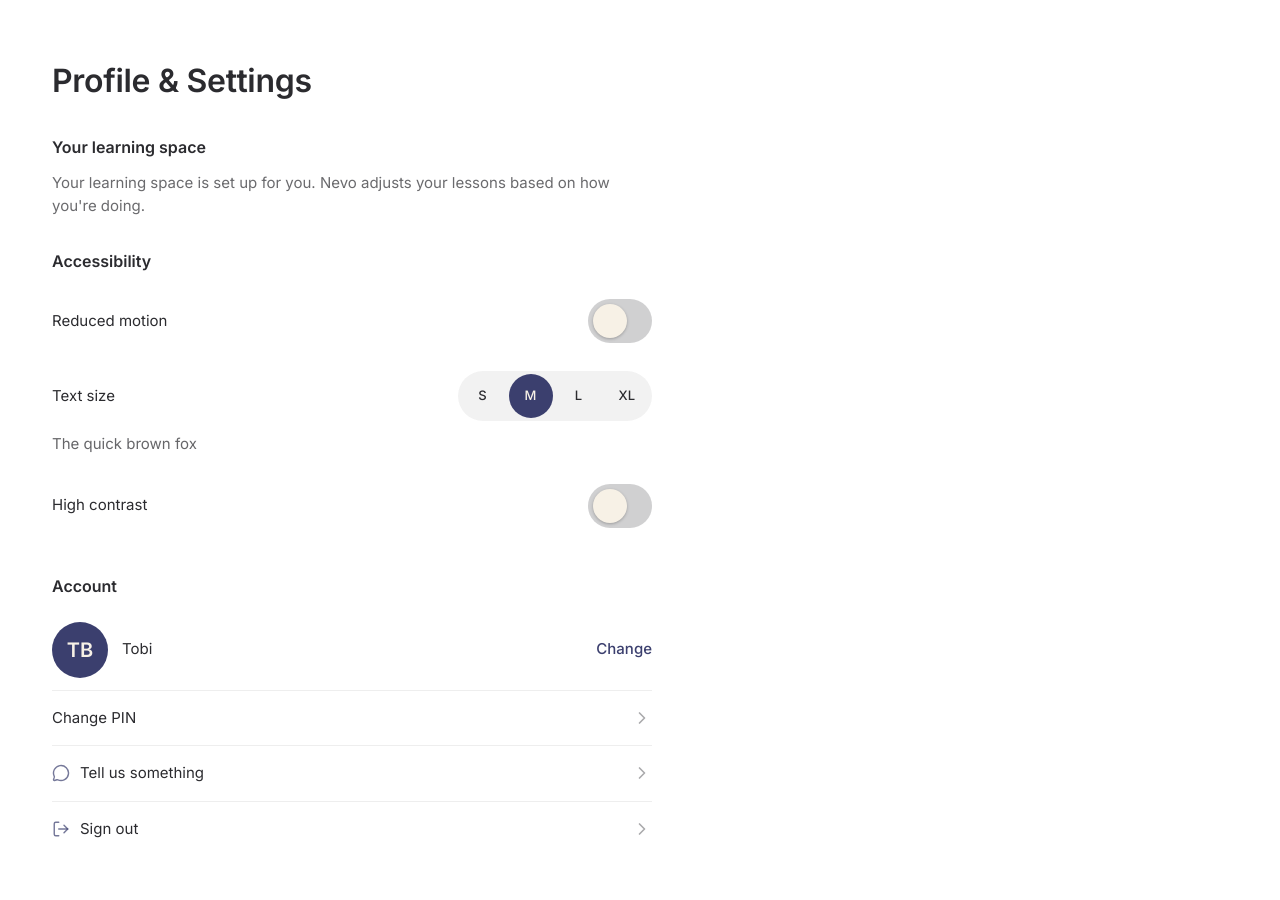
Test case: saving the name a child chose › says Saved only once the account holds it
Expected: the text "Tobi" is shown, [122,639,152,658]
Click the button "Change" at (624, 650), box [596,628,652,672]
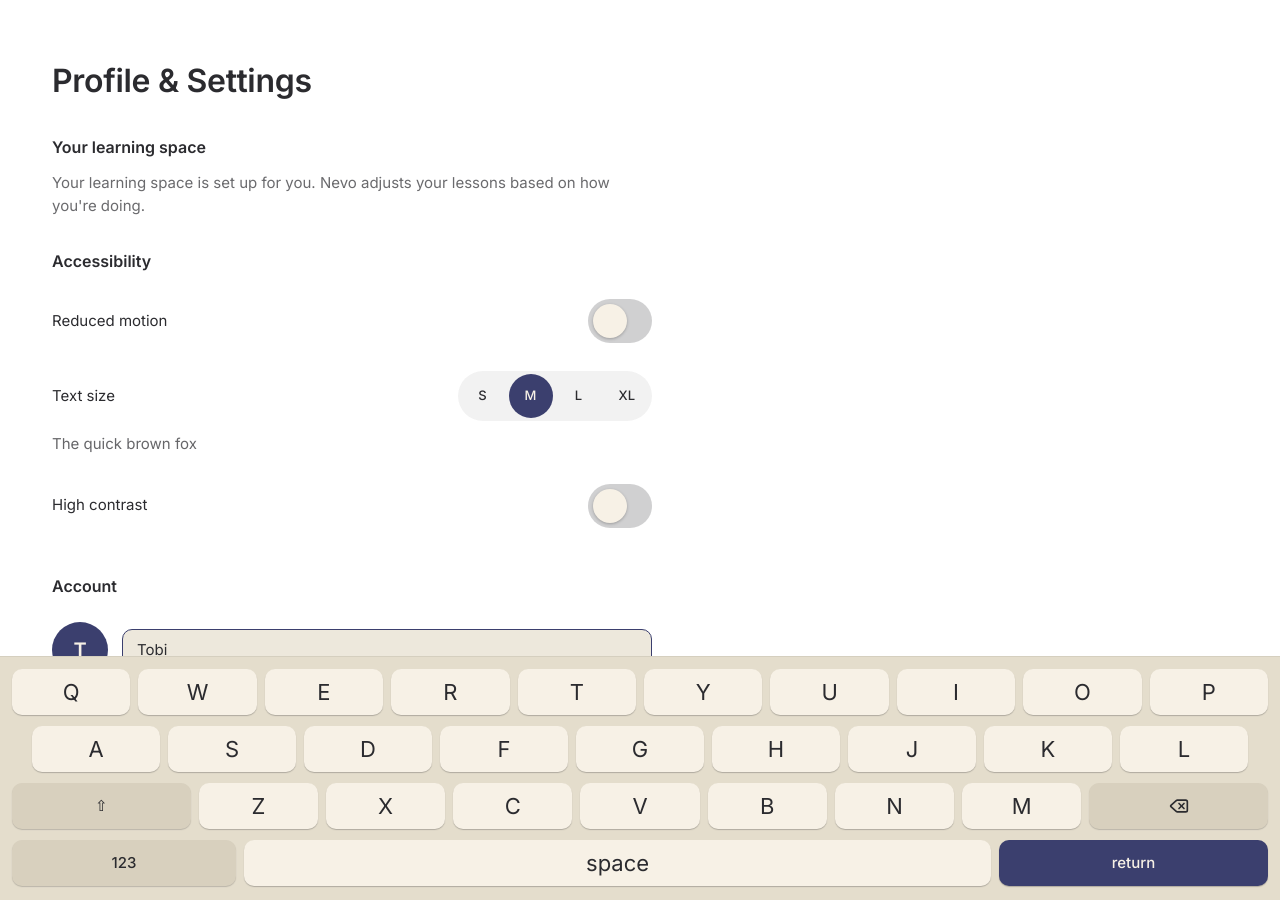
Replace the text in the field named "Your name" with "Zee" at (387, 650), box [122,629,652,671]
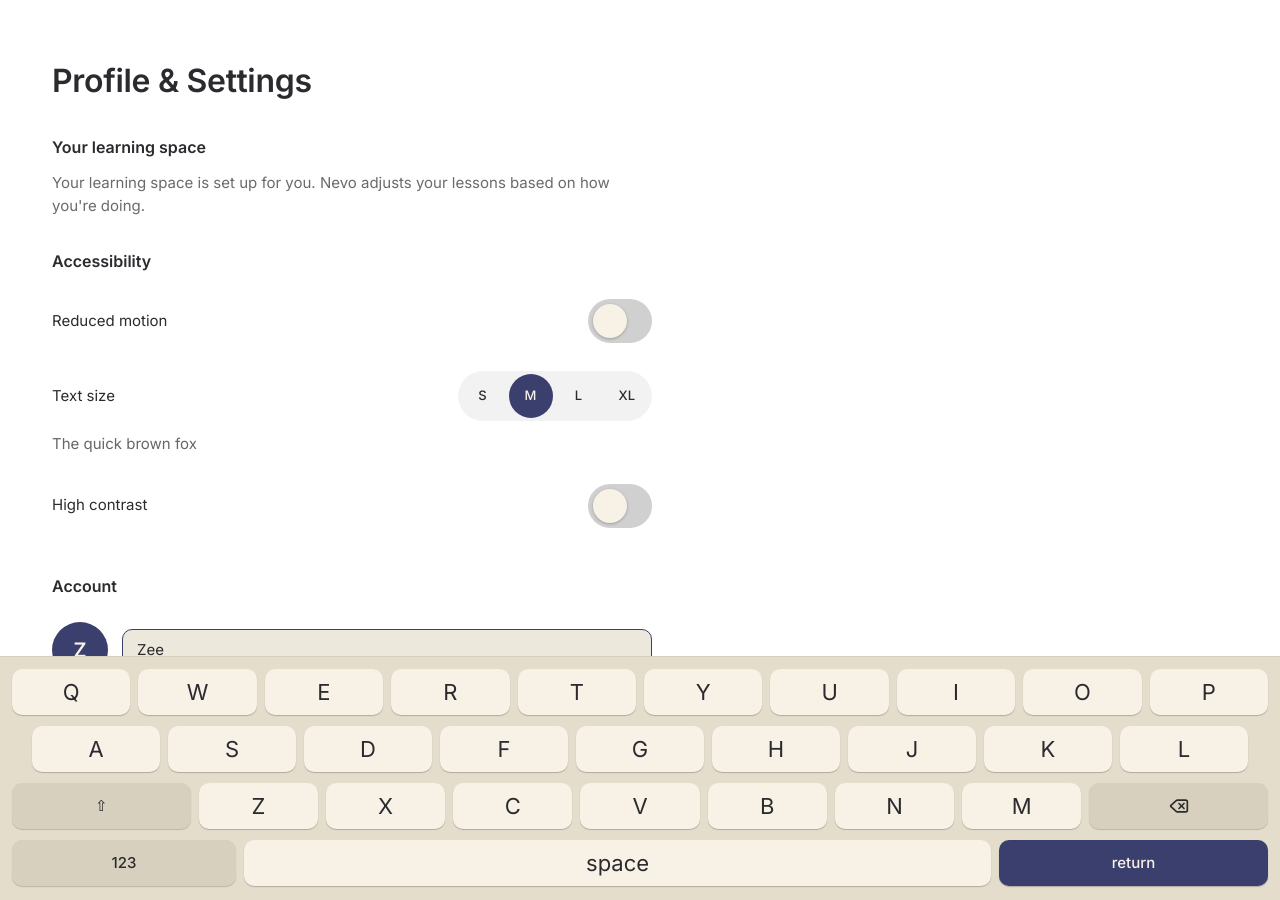
Leave the field named "Your name", box [122,629,652,671]
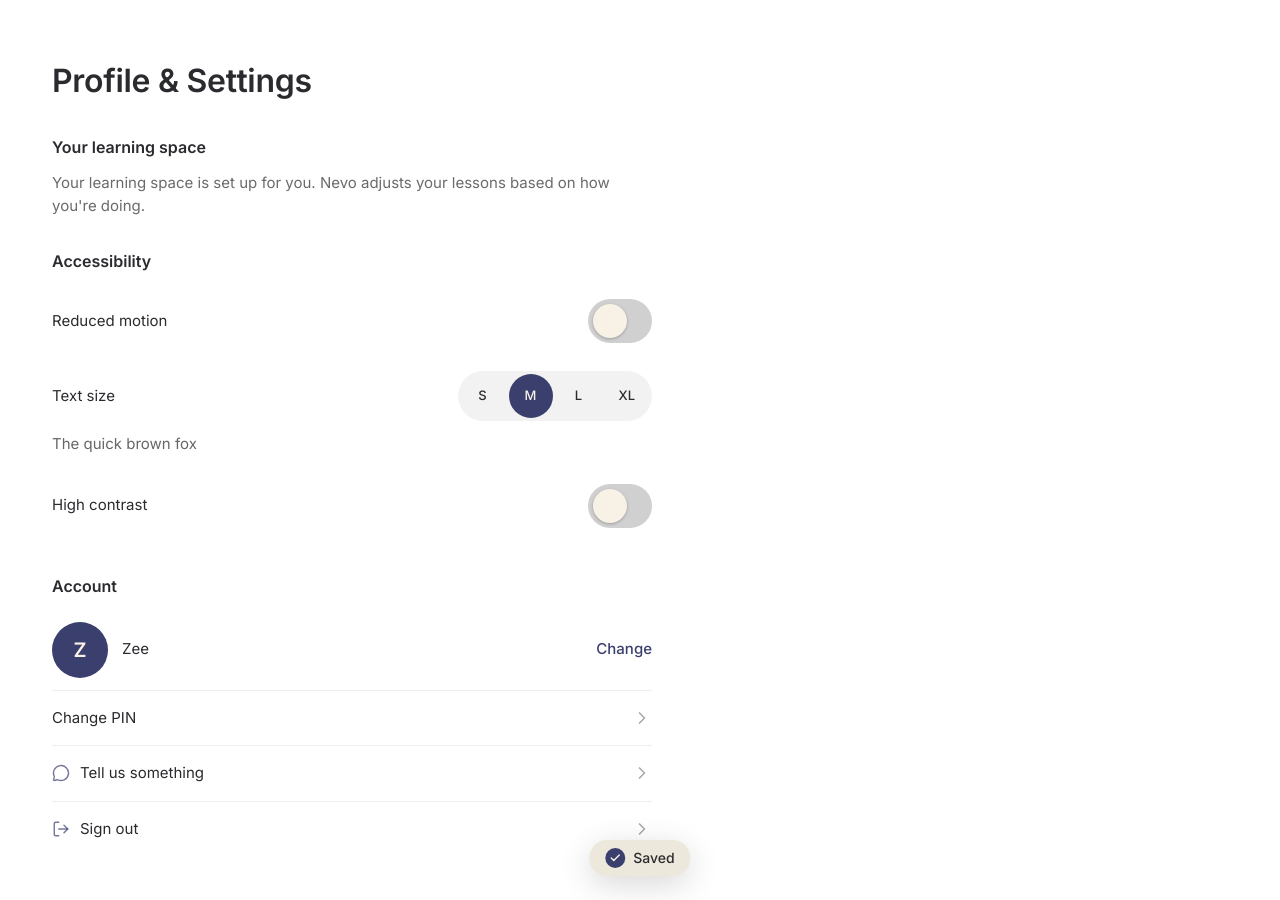
Result: the text "Zee" is shown at [122,639,149,658]
